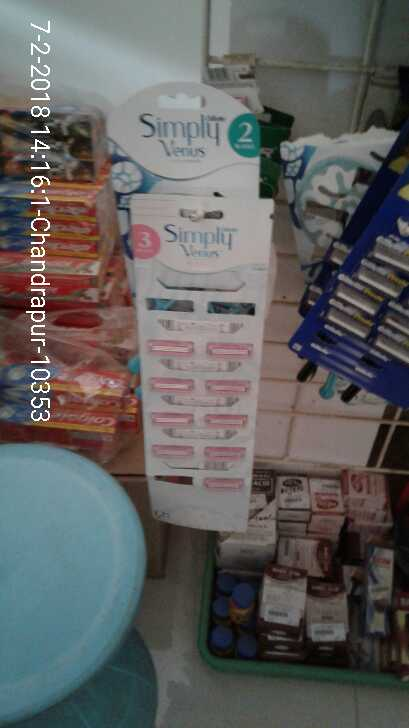venus: (134, 202, 256, 510)
